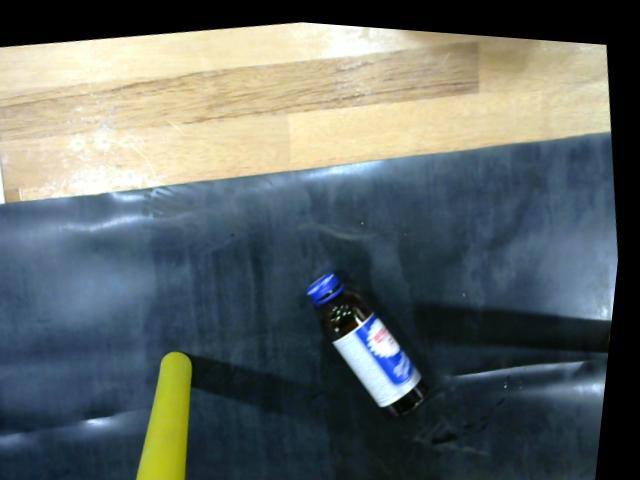glass: (300, 256, 456, 429)
